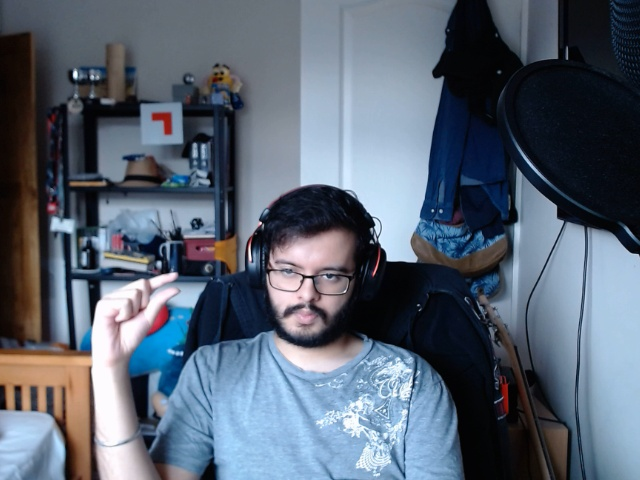Small: (83, 248, 189, 369)
